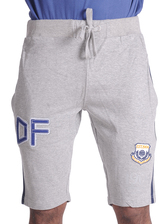clothoes: (11, 18, 165, 212)
